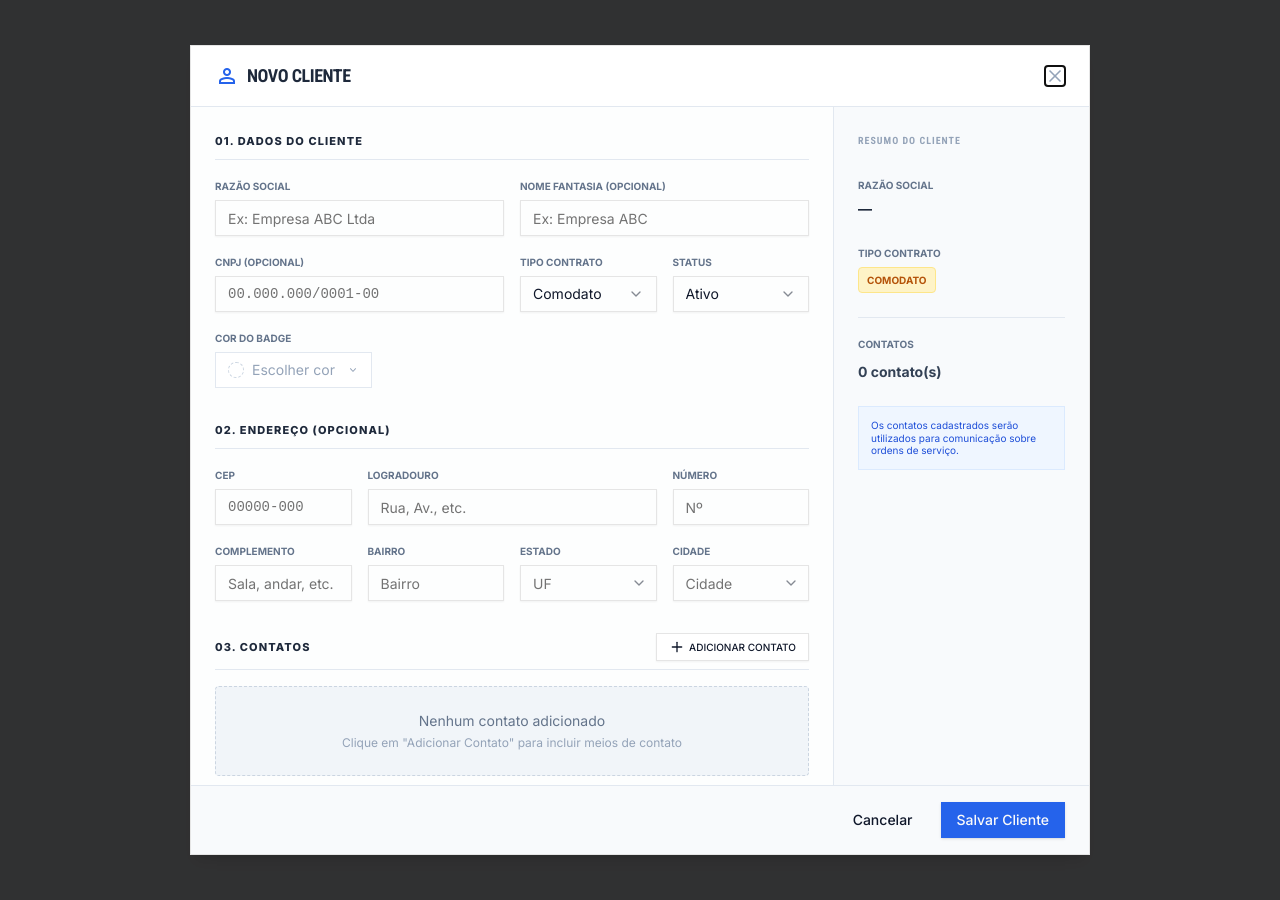
Test: ClienteModal — fluxo integrado › resumo lateral reflete razão social digitada
Expected: the text "Resumo do Cliente" is shown, [858,135,961,146]
Type "ACME Brasil" into the field with placeholder "Ex: Empresa ABC Ltda".
click(360, 218); type("ACME Brasil")  # box [215,200,504,236]
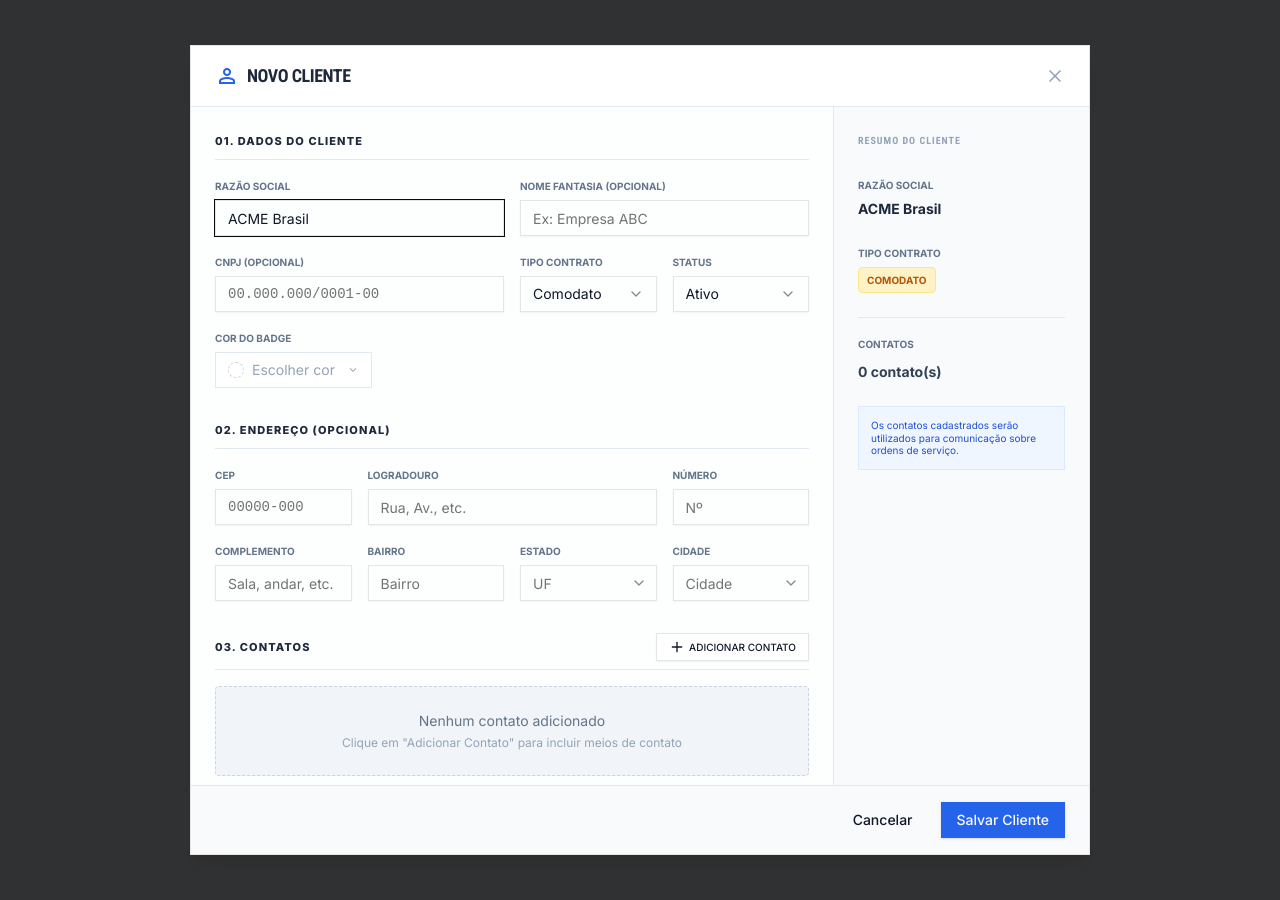
Expected: the text "Resumo do Cliente" is shown, [858,135,961,146]
Result: the text "ACME Brasil" is shown at [858,200,941,217]
